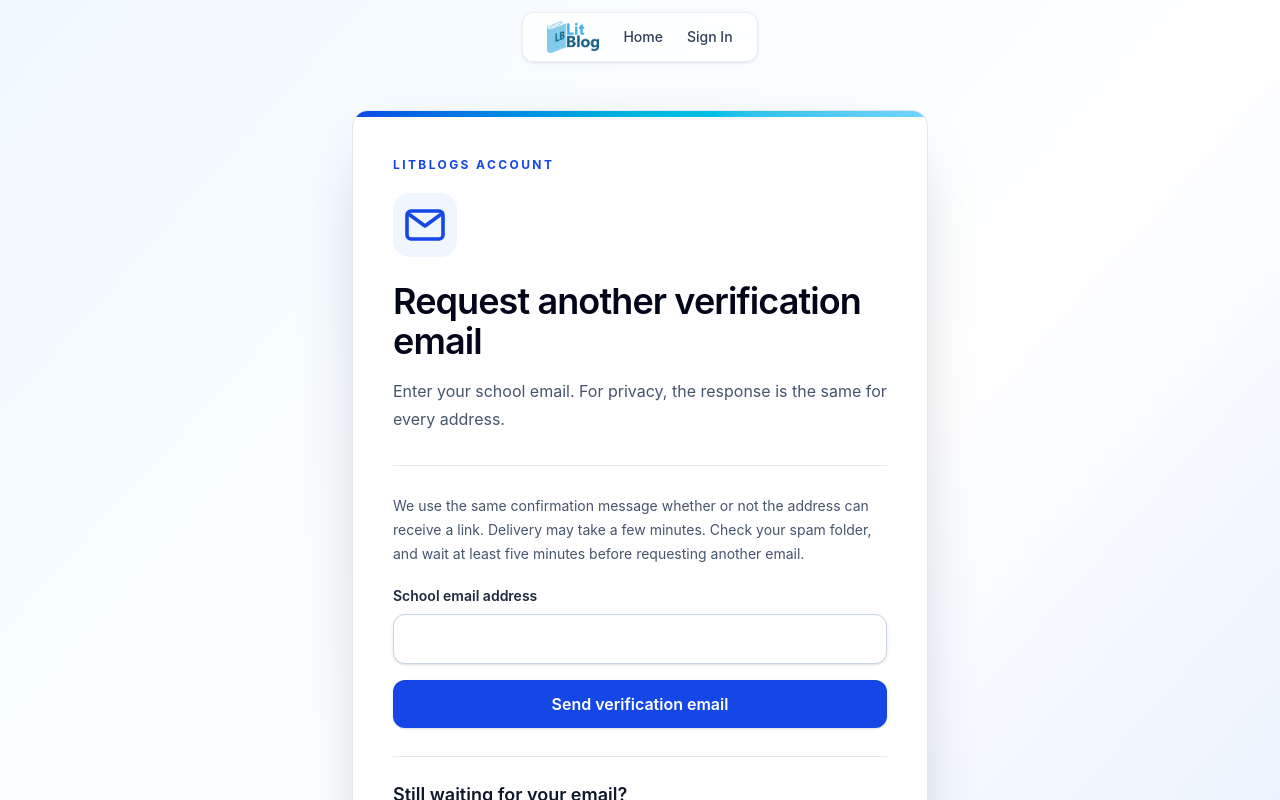
Test: generic verification resend › uses a non-enumerating error when resend cannot be submitted
Type "student@school.example" into the field labelled "School email address" at (640, 639), box [393,614,887,664]
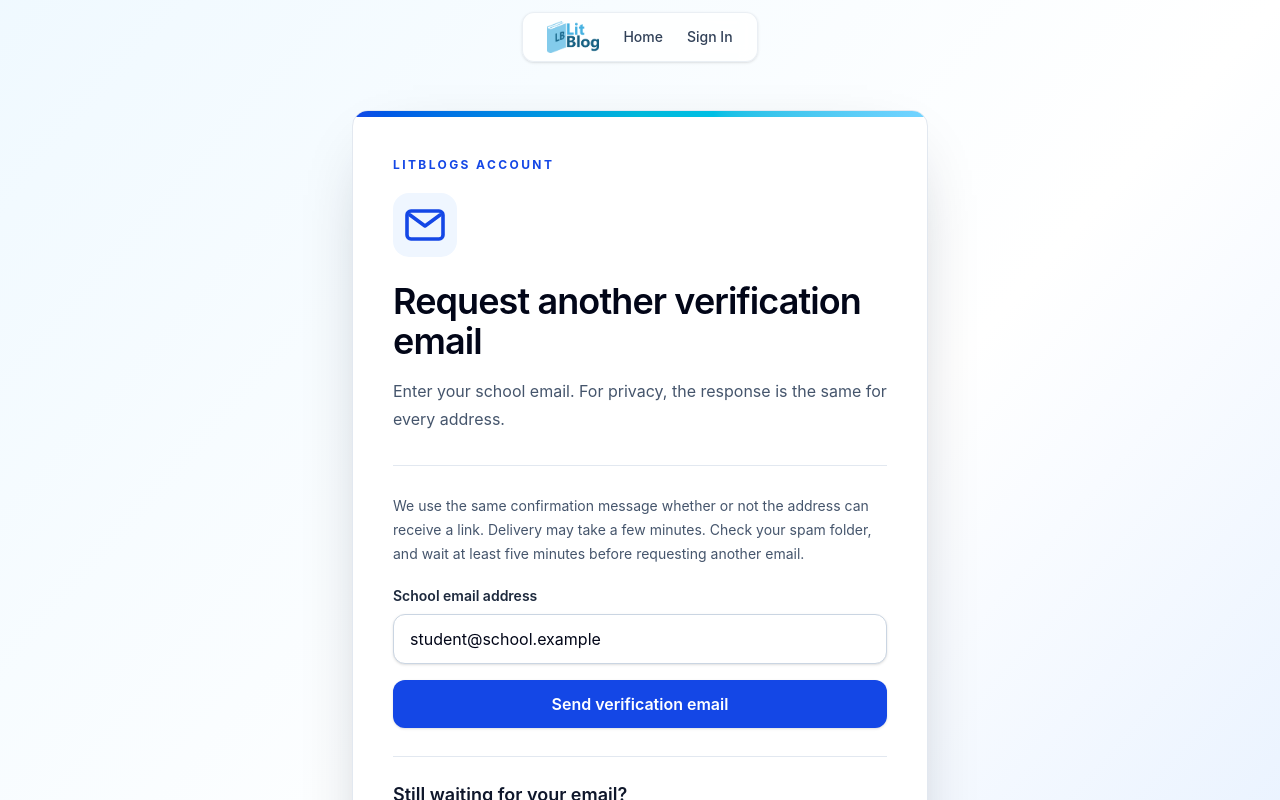
Click the button "Send verification email" at (640, 704), box [393,680,887,728]
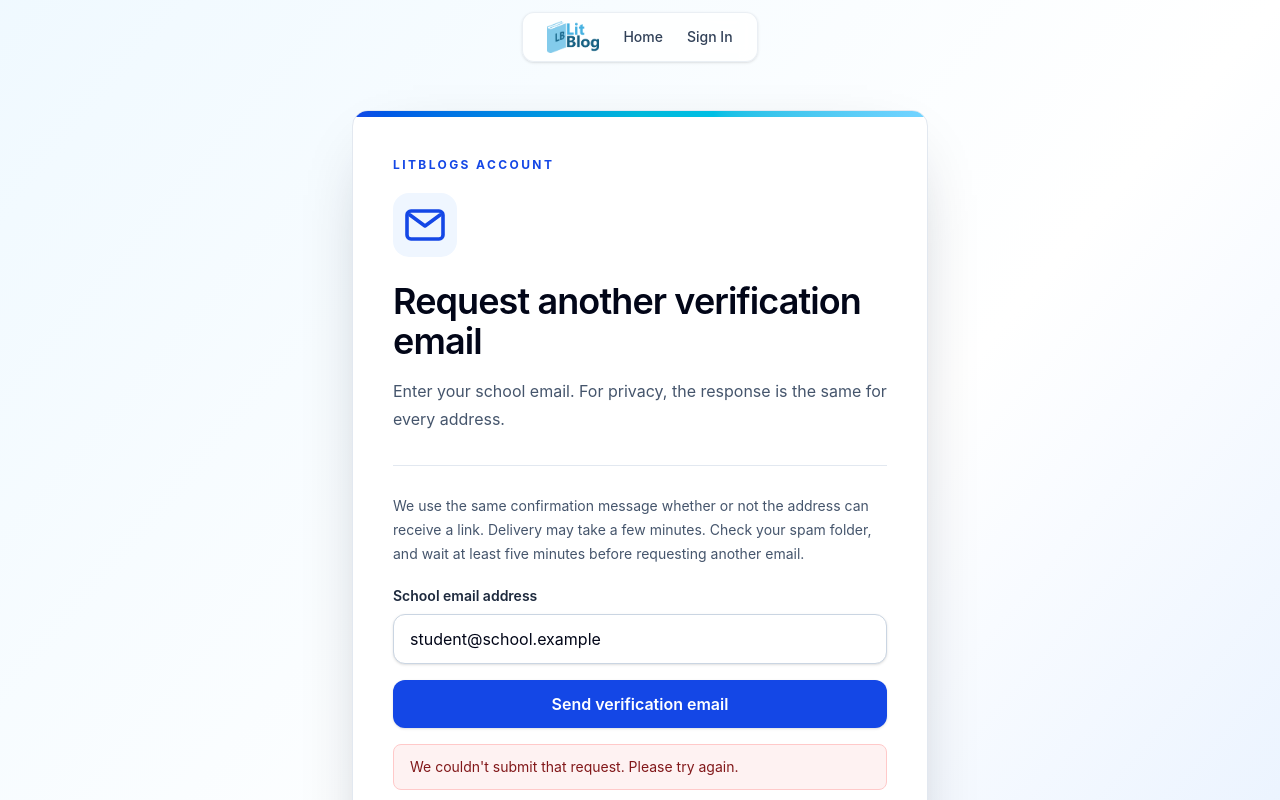
expect the message "We couldn't submit that request. Please try again." is shown: met, box [393,744,887,790]
